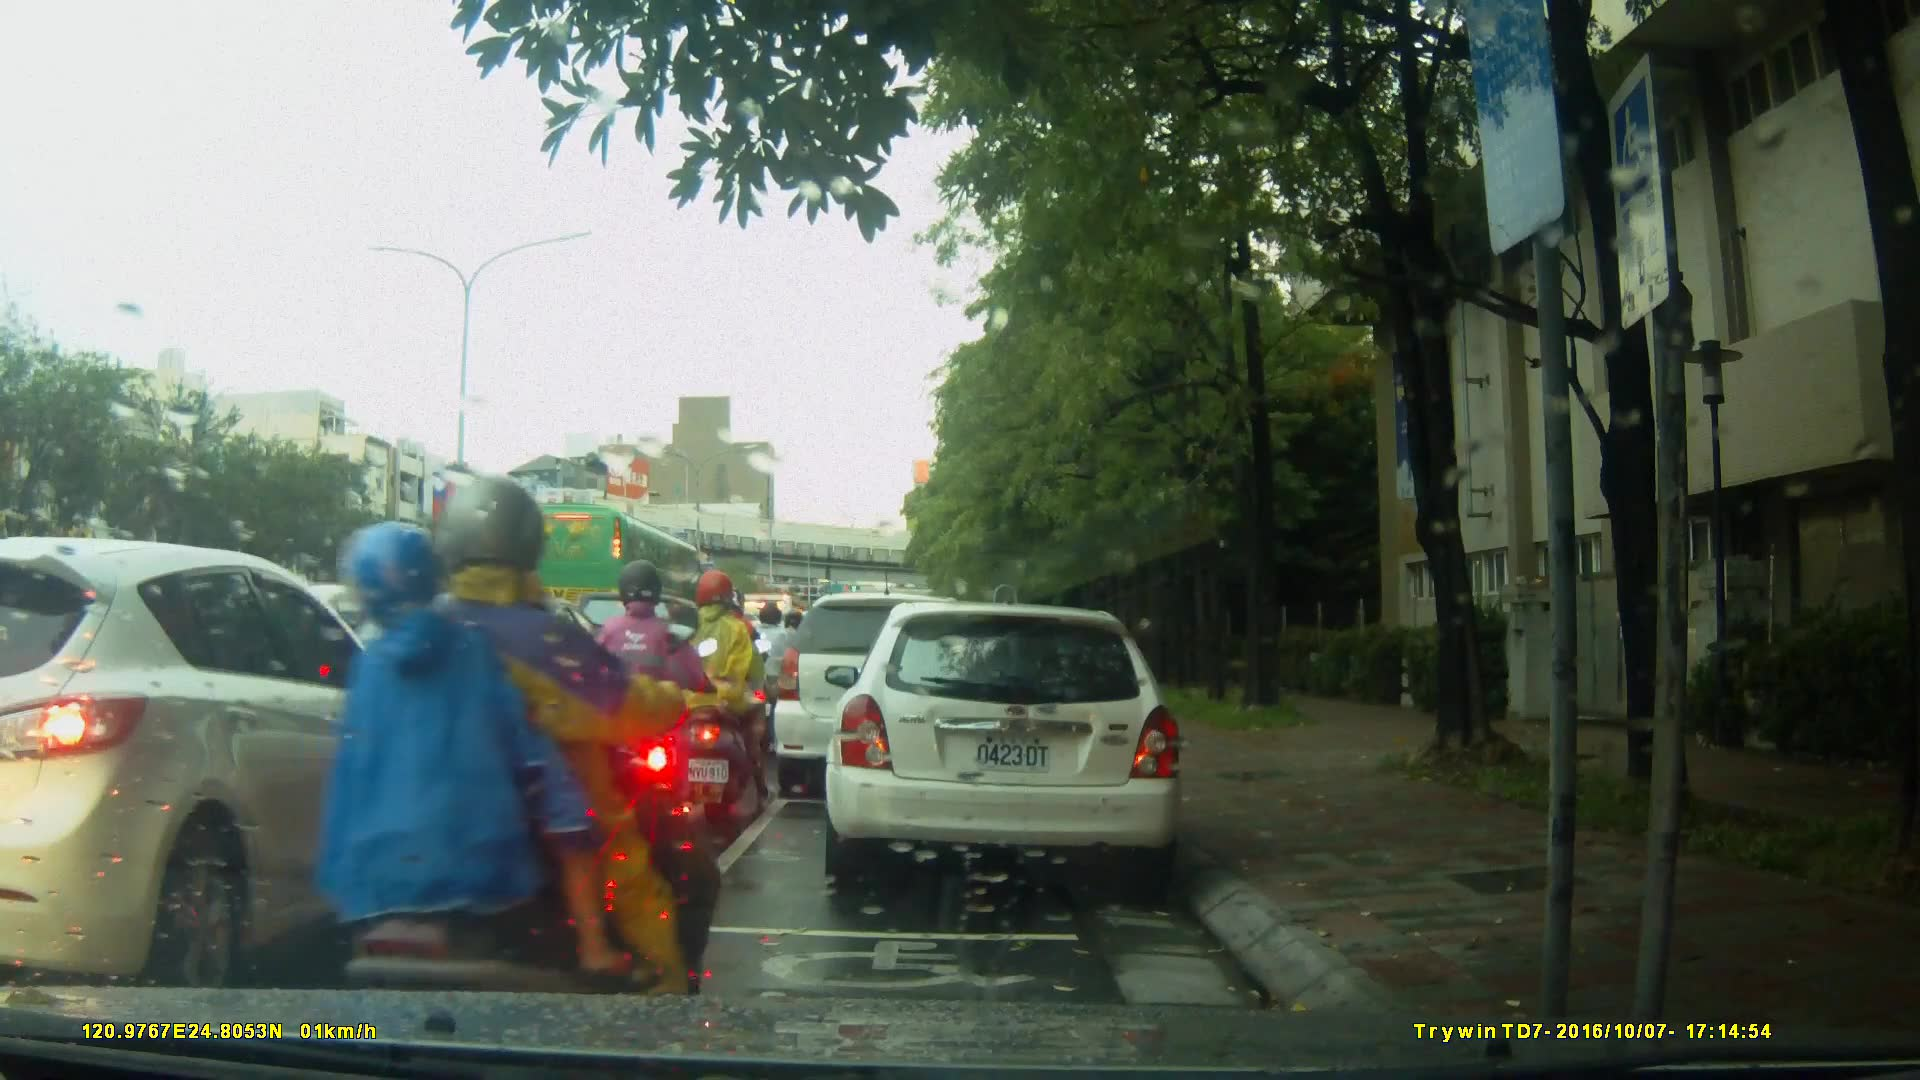rider: (330, 475, 716, 1066), (579, 565, 691, 864), (679, 566, 767, 814), (700, 591, 765, 759), (748, 598, 802, 748)
vehicle: (5, 536, 469, 988), (831, 592, 1196, 897), (316, 589, 629, 776), (770, 590, 999, 804), (498, 503, 713, 636)
